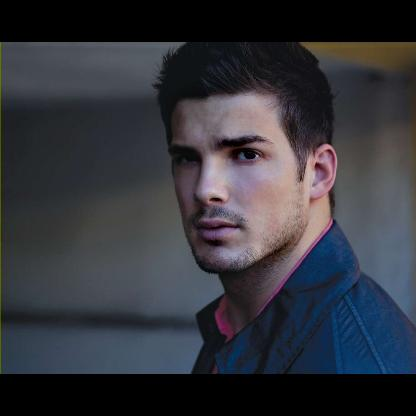Male: (164, 88, 338, 270)
